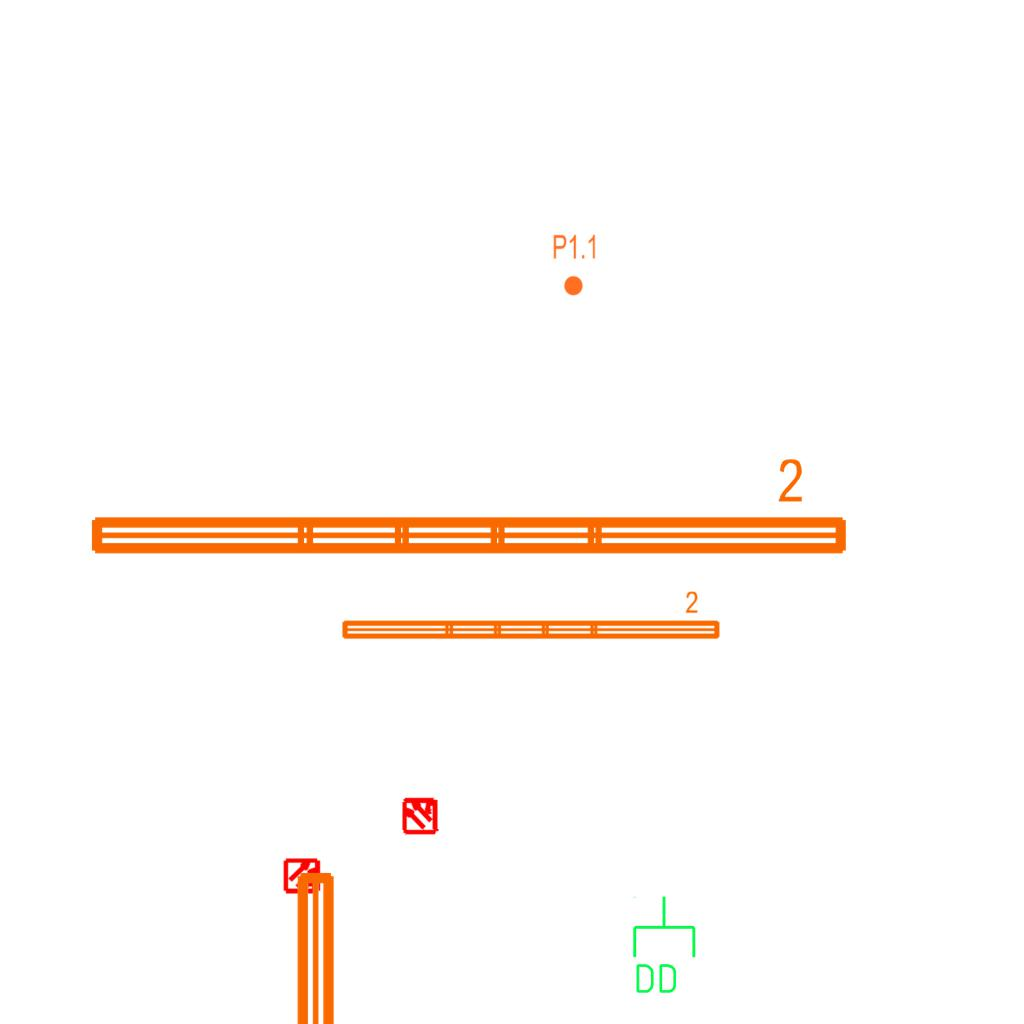Ambulanz_Pendelleuchte_LED: (81, 454, 855, 566), (337, 589, 724, 645), (285, 862, 397, 1024)
Datenanschluss_zweifach: (629, 894, 698, 997)
Downlight_LED_Einbauleuchten_Flur: (552, 233, 598, 297)
OT_Multisensormelder_(Kombination_RMO_WMD): (391, 786, 449, 844), (275, 848, 331, 904)
